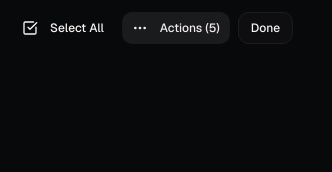
Scenario: SelectionToolbar › hides visibility options when onSetVisibility is not provided
Click the button "Actions (5)" at (176, 28), box [122,12,230,44]
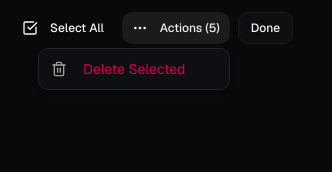
Result: the menu item "Delete Selected" is shown at [51,60,185,78]
